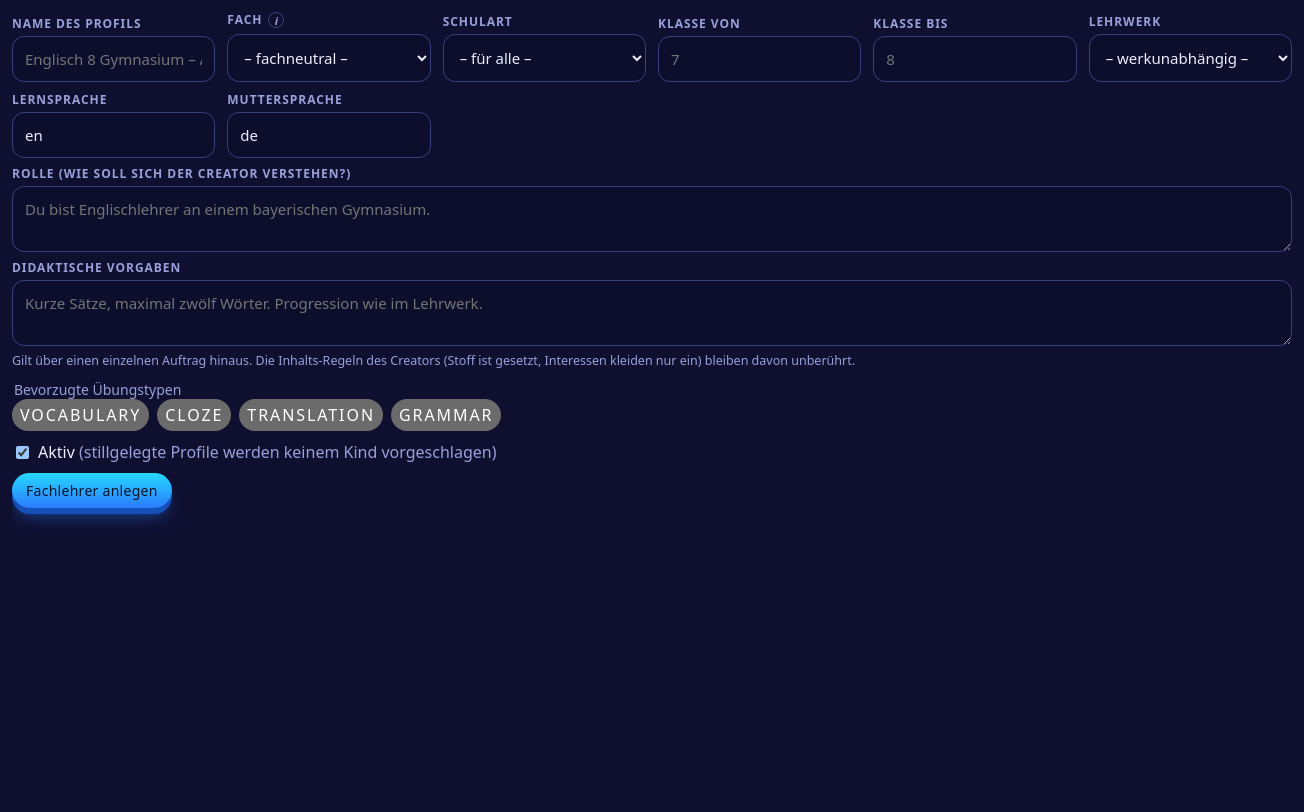
Test: ProfileForm – Ableitung aus dem Lehrwerk › füllt Fach, Lern- und Muttersprache beim Wählen der Reihe
Select "Access" in the dropdown labelled "Lehrwerk". click: (1190, 58)
box: x1=1089 y1=34 x2=1292 y2=82
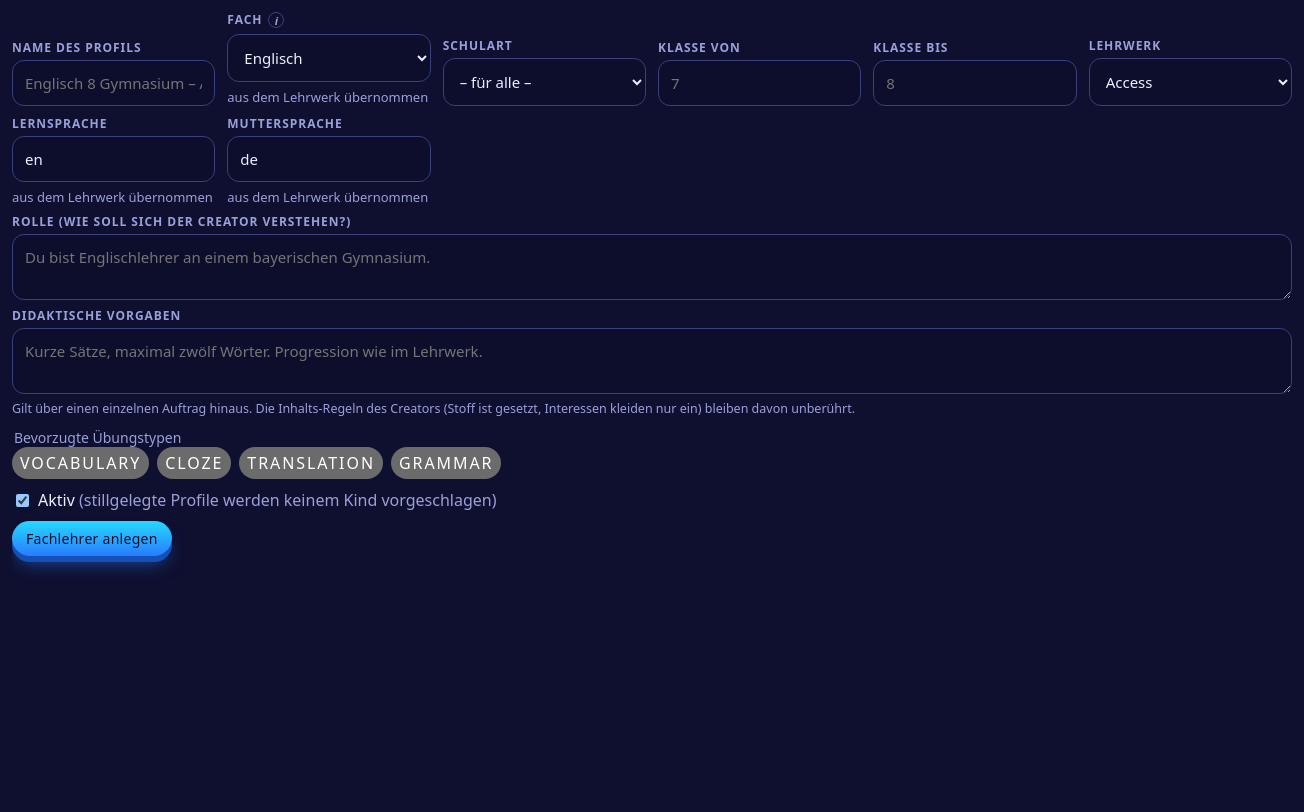
Expected: the field labelled "Lernsprache" holds "en", x1=12 y1=136 x2=215 y2=182
Expected: the dropdown labelled "Fach" shows "Englisch", x1=227 y1=34 x2=431 y2=82
Expected: the text "aus dem Lehrwerk übernommen" is shown 3 times, x1=227 y1=88 x2=431 y2=106; x1=12 y1=188 x2=215 y2=206; x1=227 y1=188 x2=431 y2=206
